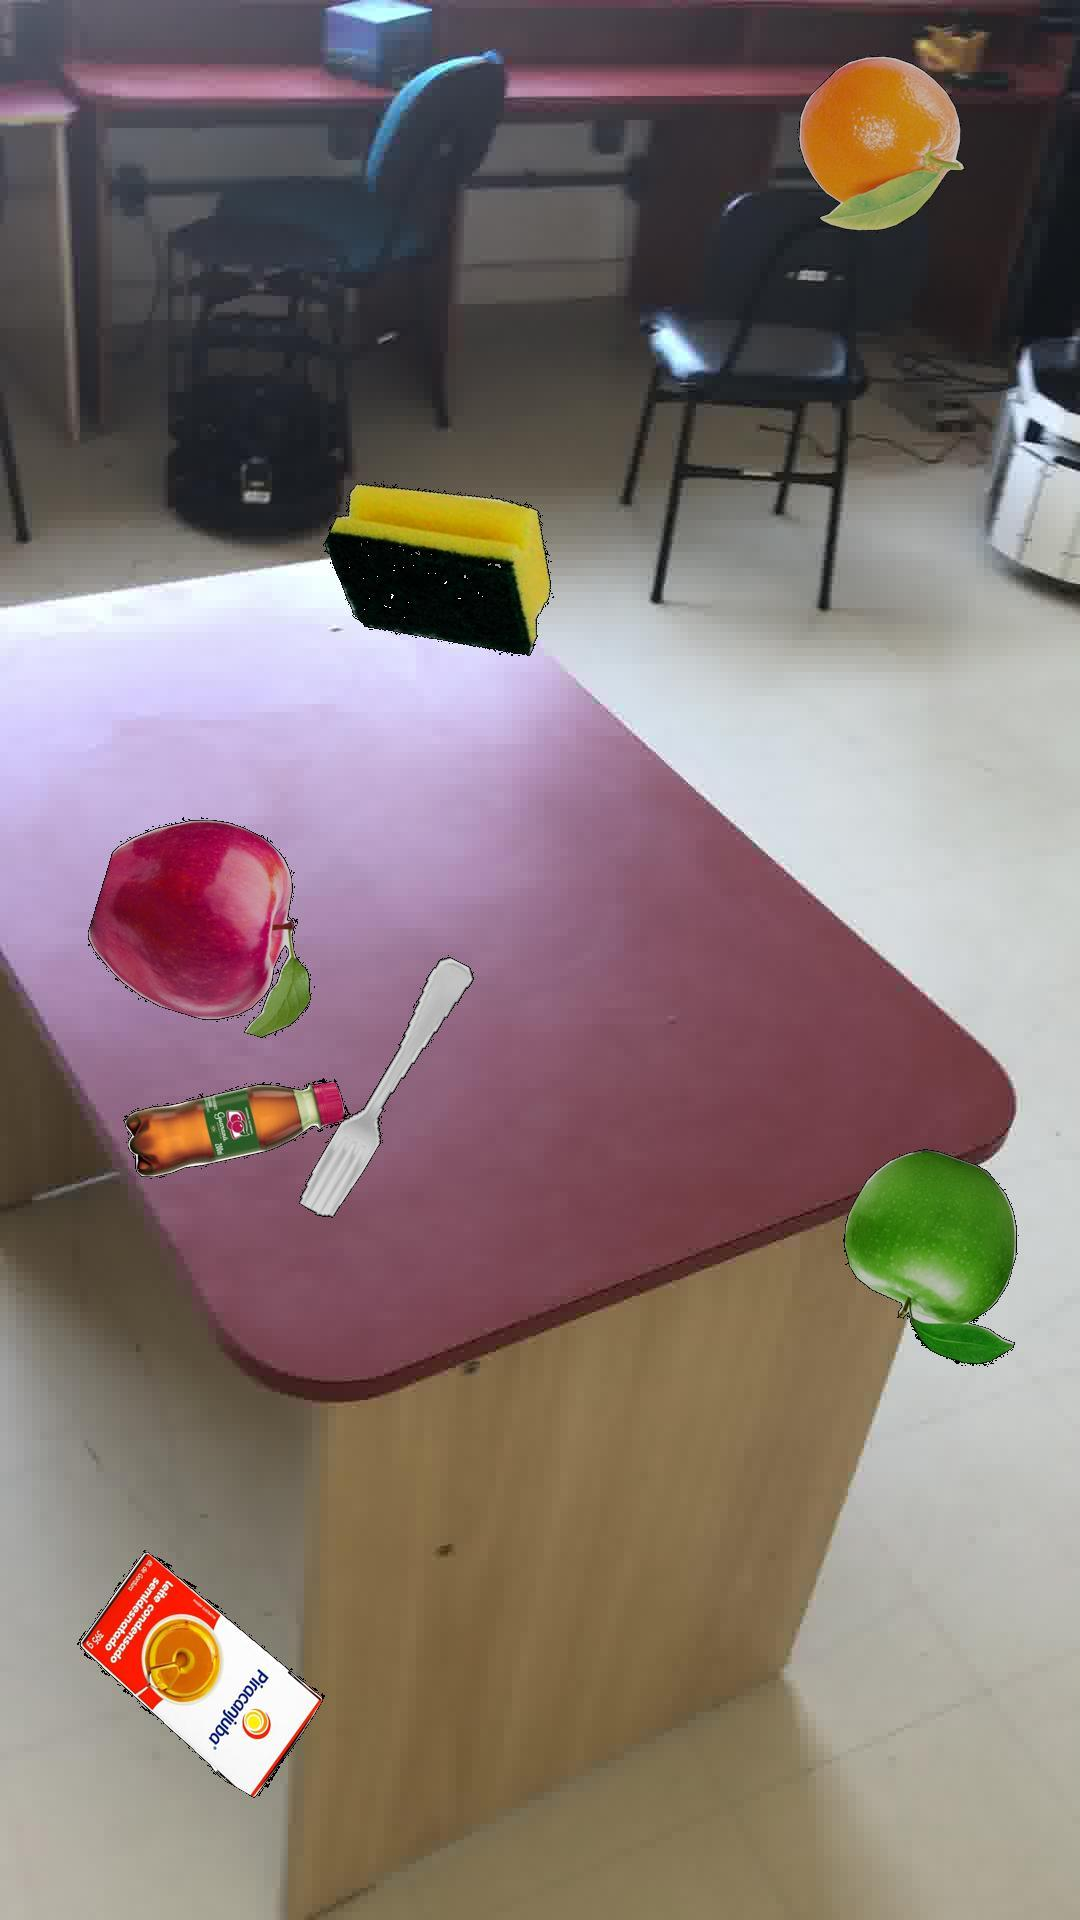apple: (87, 818, 310, 1036)
fork: (298, 956, 472, 1217)
green apple: (841, 1147, 1015, 1365)
guarana: (123, 1076, 348, 1175)
orange: (796, 54, 964, 229)
sponge: (323, 483, 550, 654)
